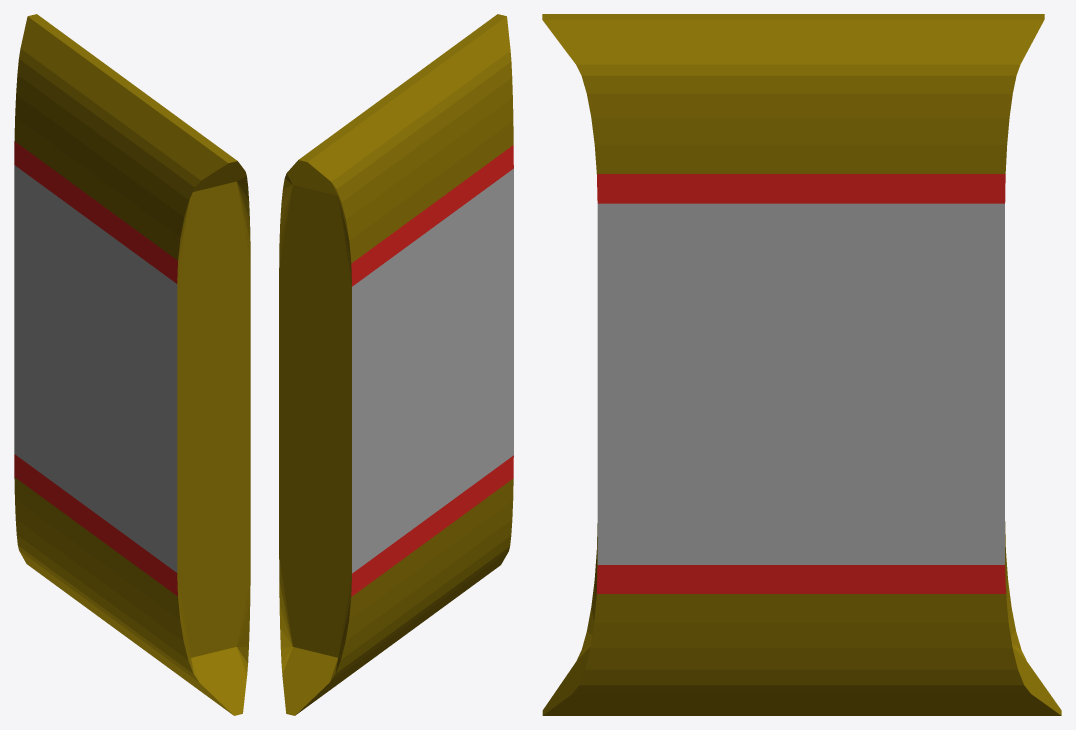
Rendered from Gummibären.fbx.
The picture shows the model from 3 angles, left to right: view 1: azimuth 30°, elevation 25°; view 2: azimuth 150°, elevation 25°; view 3: azimuth 270°, elevation 25°; orthographic projection. The views are drawn at different scales.
Parts seen in each view (by area): view 1: Cube; view 2: Cube; view 3: Cube.
Boxes of the visible parts, left/top/right/bottom form: Cube: left=14, top=14, right=250, bottom=715; Cube: left=279, top=14, right=513, bottom=715; Cube: left=542, top=14, right=1061, bottom=715.
Bounding box in the file's own units: 19 × 137 × 93.08.
